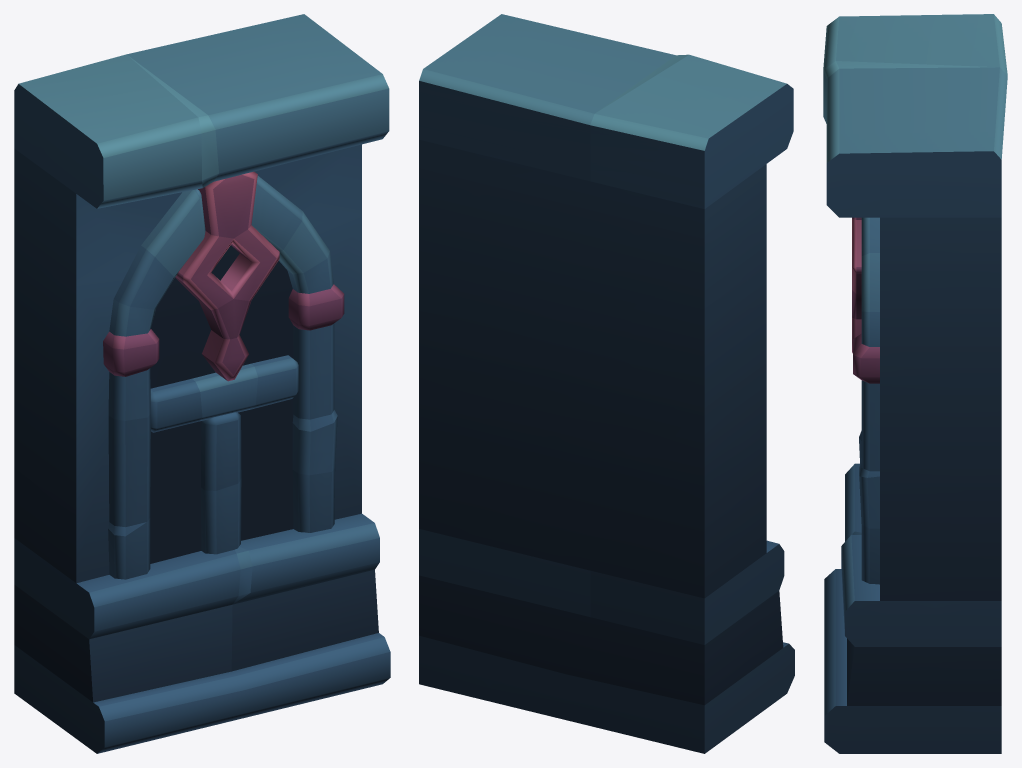
File: wall_element_tileable_deco3_2meters.fbx
The picture shows the model from 3 angles, left to right: view 1: azimuth 30°, elevation 25°; view 2: azimuth 150°, elevation 25°; view 3: azimuth 270°, elevation 25°; orthographic projection.
Visible parts, largest first — view 1: wall_element_tileable_deco3_2meters; view 2: wall_element_tileable_deco3_2meters; view 3: wall_element_tileable_deco3_2meters.
Boxes of the visible parts, box(x1,y1,x2,y2) form: wall_element_tileable_deco3_2meters: box(14, 14, 390, 753); wall_element_tileable_deco3_2meters: box(419, 14, 794, 753); wall_element_tileable_deco3_2meters: box(823, 14, 1007, 753).
Size of the model in its own units: 200 by 410 by 114.
